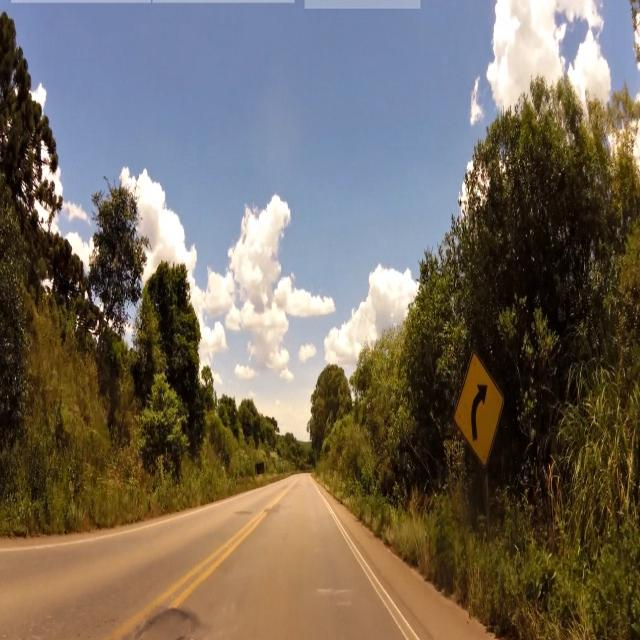A-2b: (453, 351, 506, 470)
